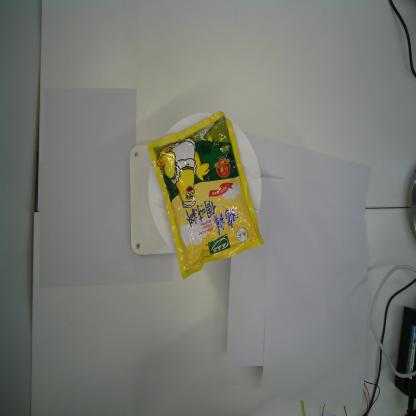Seasoner: (146, 111, 264, 281)
